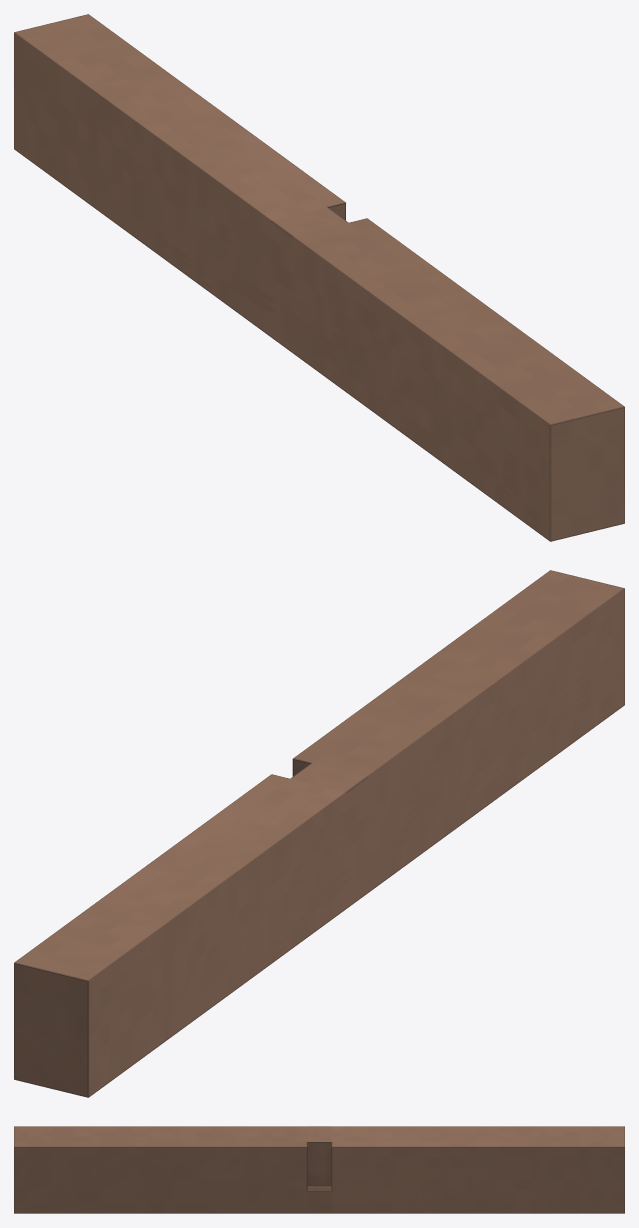
3 renders of one model, top to bottom at view 1: azimuth 30°, elevation 25°; view 2: azimuth 150°, elevation 25°; view 3: azimuth 270°, elevation 25°, orthographic. The views are drawn at different scales.
Parts seen in each view (by area): view 1: part-a; view 2: part-a; view 3: part-a.
Boxes of the visible parts, x1=… form: part-a: x1=14, y1=14, x2=624, y2=541; part-a: x1=14, y1=570, x2=624, y2=1097; part-a: x1=14, y1=1126, x2=624, y2=1213.
Size of the model in its own units: 0.1208 by 0.1808 by 1.5.
